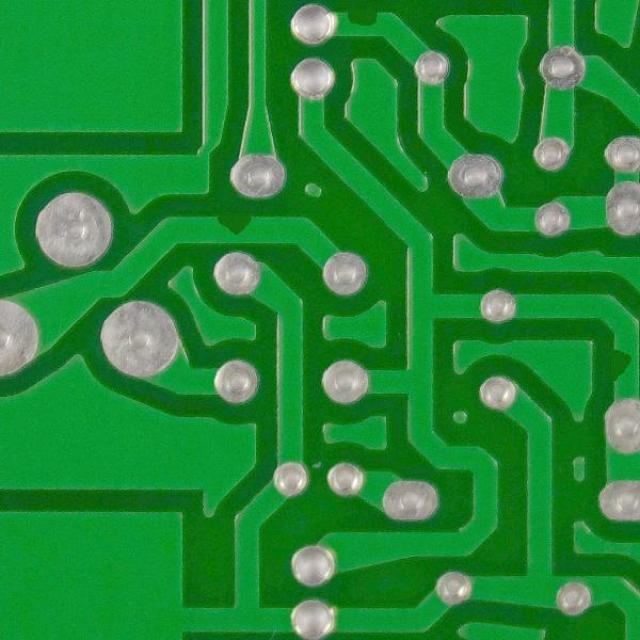MouseBite: (207, 207, 262, 240), (608, 342, 639, 388), (338, 4, 387, 30)
